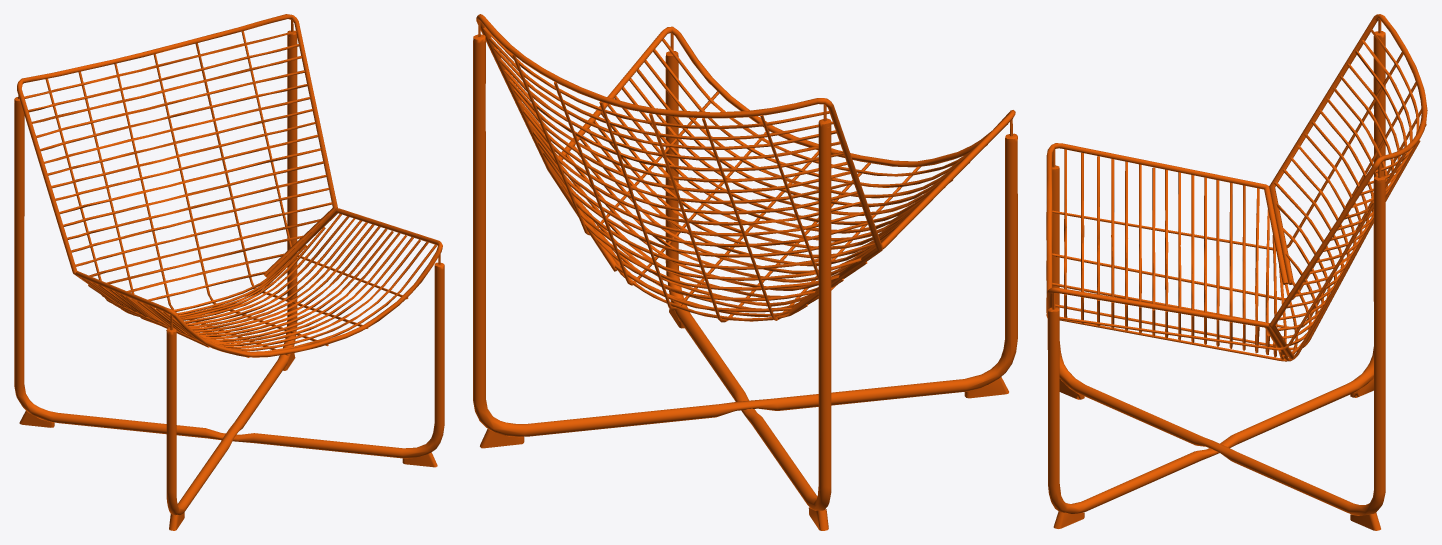
File: 18-SKÅLBODA armchair - orange (40555309).glb
The picture shows the model from 3 angles, left to right: view 1: azimuth 30°, elevation 25°; view 2: azimuth 150°, elevation 25°; view 3: azimuth 270°, elevation 25°; orthographic projection. The views are drawn at different scales.
Parts seen in each view (by area): view 1: 40555309_armchair; view 2: 40555309_armchair; view 3: 40555309_armchair.
Boxes of the visible parts, <box> form: 40555309_armchair: <box>14,14,444,530</box>; 40555309_armchair: <box>473,14,1017,530</box>; 40555309_armchair: <box>1046,14,1427,530</box>.
Bounding box in the file's own units: 0.6396 × 0.7419 × 0.6888.
